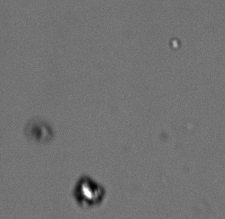Dead Cell: (28, 120, 50, 140)
Living Cell: (74, 177, 104, 203)
